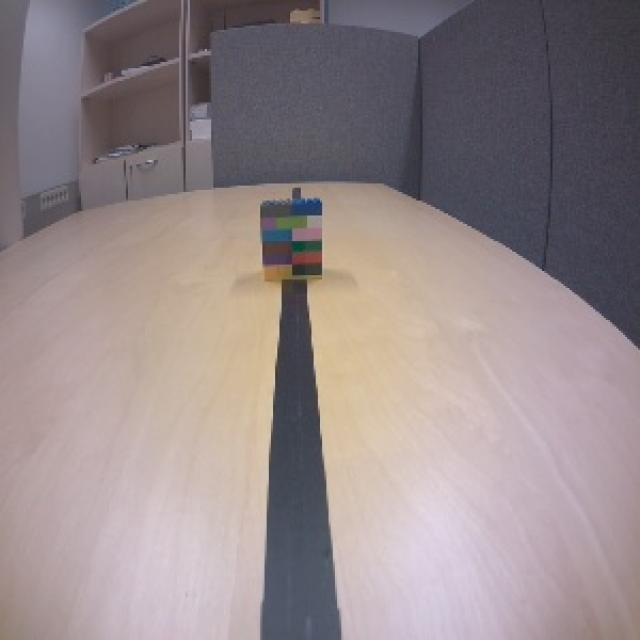obstacle: (257, 196, 324, 282)
